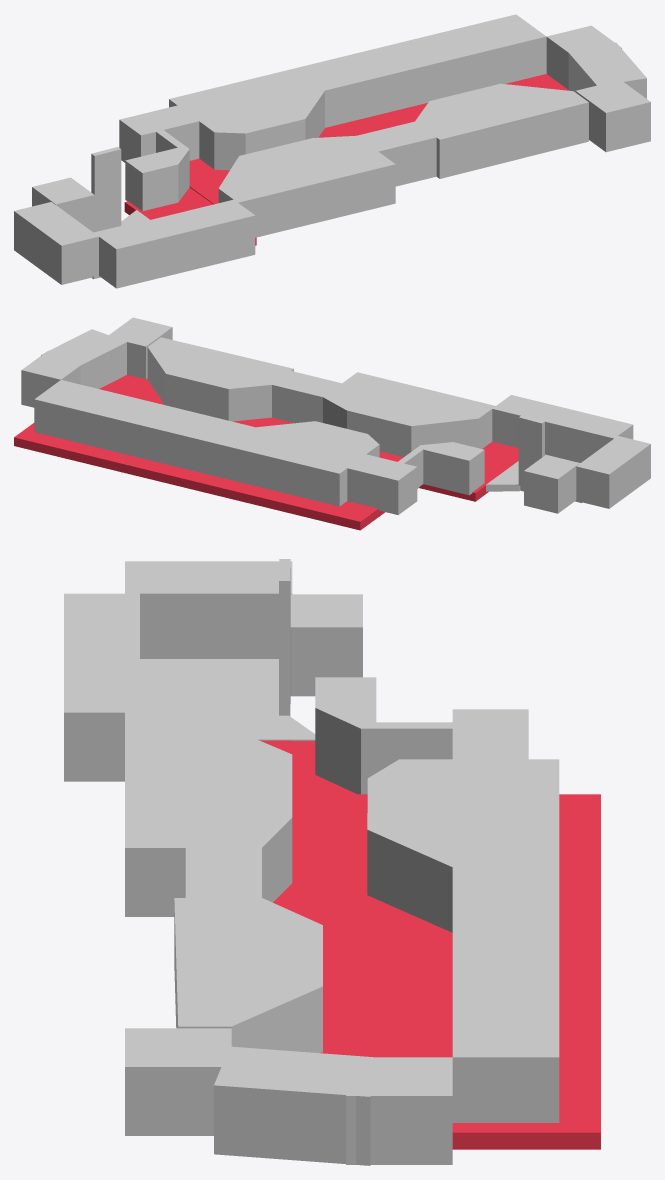
The model's file is forum_hitbox_upper.fbx.
The picture shows the model from 3 angles, top to bottom: view 1: azimuth 30°, elevation 25°; view 2: azimuth 150°, elevation 25°; view 3: azimuth 270°, elevation 25°; orthographic projection. The views are drawn at different scales.
Parts seen in each view (by area): view 1: HitboxUpper_Balustrade_invisible.004, HitboxUpper_Balustrrade_fullhitbox_invisible.001, HitboxUpper_Balustrrade_fullhitbox_invisible.003, HitboxUpper_Balustrrade_fullhitbox_invisible.002, HitboxUpper_Balustrrade_invisible.004, HitboxUpper_Balustrrade_invisible.003, HitboxUpper_Balustrade_invisible.003, HitboxUpper_Balustrrade_fullhitbox_invisible.007, HitboxUpper_Floor_invisible.001, HitboxUpper_Balustrrade_invisible.002, HitboxUpper_Balustrrade_invisible.001, HitboxUpper_Balustrade_invisible.001 (+5 smaller); view 2: HitboxUpper_Balustrade_invisible.004, HitboxUpper_Balustrrade_fullhitbox_invisible.001, HitboxUpper_Balustrrade_fullhitbox_invisible.002, HitboxUpper_Floor_invisible.001, HitboxUpper_Balustrrade_fullhitbox_invisible.003, HitboxUpper_Balustrrade_invisible.004, HitboxUpper_Balustrrade_invisible.003, HitboxUpper_Balustrrade_invisible.001, HitboxUpper_Balustrade_invisible.001, HitboxUpper_Balustrrade_fullhitbox_invisible.007, HitboxUpper_Balustrrade_invisible.005, HitboxUpper_Balustrrade_invisible.002 (+7 smaller); view 3: HitboxUpper_Floor_invisible.001, HitboxUpper_Balustrade_invisible.004, HitboxUpper_Balustrrade_fullhitbox_invisible.001, HitboxUpper_Balustrrade_fullhitbox_invisible.002, HitboxUpper_Balustrrade_fullhitbox_invisible.003, HitboxUpper_Balustrade_invisible.001, HitboxUpper_Balustrrade_invisible.003, HitboxUpper_Balustrrade_invisible.004, HitboxUpper_Balustrade_invisible.003, HitboxUpper_Balustrade_invisible.002, HitboxUpper_Balustrrade_fullhitbox_invisible.007, HitboxUpper_Balustrrade_invisible.005 (+7 smaller).
Part boxes in pixels (x1,y1,x2,y2): HitboxUpper_Balustrade_invisible.004: (295,14,546,127); HitboxUpper_Balustrrade_fullhitbox_invisible.001: (218,135,395,237); HitboxUpper_Balustrrade_fullhitbox_invisible.003: (415,83,588,178); HitboxUpper_Balustrrade_fullhitbox_invisible.002: (169,68,324,170); HitboxUpper_Balustrrade_invisible.004: (95,199,255,288); HitboxUpper_Balustrrade_invisible.003: (14,202,98,284); HitboxUpper_Balustrade_invisible.003: (575,82,650,152); HitboxUpper_Balustrrade_fullhitbox_invisible.007: (125,146,189,211); HitboxUpper_Floor_invisible.001: (189,74,568,204); HitboxUpper_Balustrrade_invisible.002: (357,121,436,186); HitboxUpper_Balustrrade_invisible.001: (119,105,199,162); HitboxUpper_Balustrade_invisible.001: (566,42,646,98); HitboxUpper_Balustrade_invisible.004: (34,380,254,479); HitboxUpper_Balustrrade_fullhitbox_invisible.001: (323,372,495,456); HitboxUpper_Balustrrade_fullhitbox_invisible.002: (229,421,379,506); HitboxUpper_Floor_invisible.001: (14,375,419,530); HitboxUpper_Balustrrade_fullhitbox_invisible.003: (147,337,293,421); HitboxUpper_Balustrrade_invisible.004: (492,395,633,462); HitboxUpper_Balustrrade_invisible.003: (576,436,650,508); HitboxUpper_Balustrrade_invisible.001: (347,454,417,514); HitboxUpper_Balustrade_invisible.001: (41,329,126,388); HitboxUpper_Balustrrade_fullhitbox_invisible.007: (417,442,484,495); HitboxUpper_Balustrrade_invisible.005: (524,455,578,513); HitboxUpper_Balustrrade_invisible.002: (272,371,341,423); HitboxUpper_Floor_invisible.001: (273,794,600,1149); HitboxUpper_Balustrade_invisible.004: (452,867,559,1122); HitboxUpper_Balustrrade_fullhitbox_invisible.001: (125,712,292,916); HitboxUpper_Balustrrade_fullhitbox_invisible.002: (367,759,559,932); HitboxUpper_Balustrrade_fullhitbox_invisible.003: (174,898,322,1053); HitboxUpper_Balustrade_invisible.001: (214,1046,386,1165); HitboxUpper_Balustrrade_invisible.003: (125,561,292,658); HitboxUpper_Balustrrade_invisible.004: (64,593,139,781); HitboxUpper_Balustrade_invisible.003: (125,1028,231,1135); HitboxUpper_Balustrade_invisible.002: (346,1057,452,1164); HitboxUpper_Balustrrade_fullhitbox_invisible.007: (315,677,376,794); HitboxUpper_Balustrrade_invisible.005: (290,594,362,696).
Bounding box in the file's own units: 33.26 × 4.45 × 14.1.
